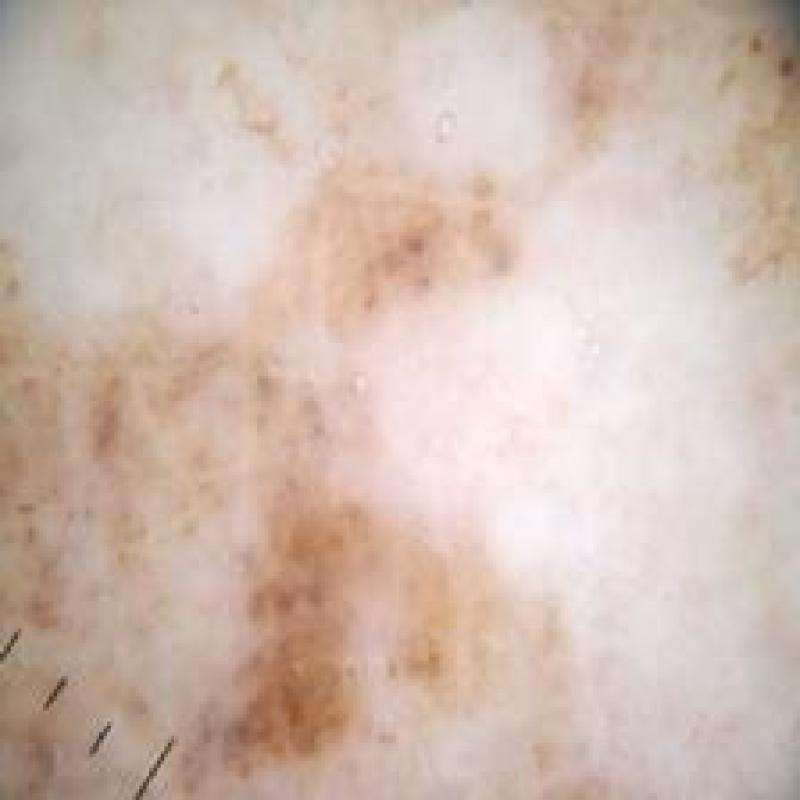malignant: (118, 34, 764, 776)
